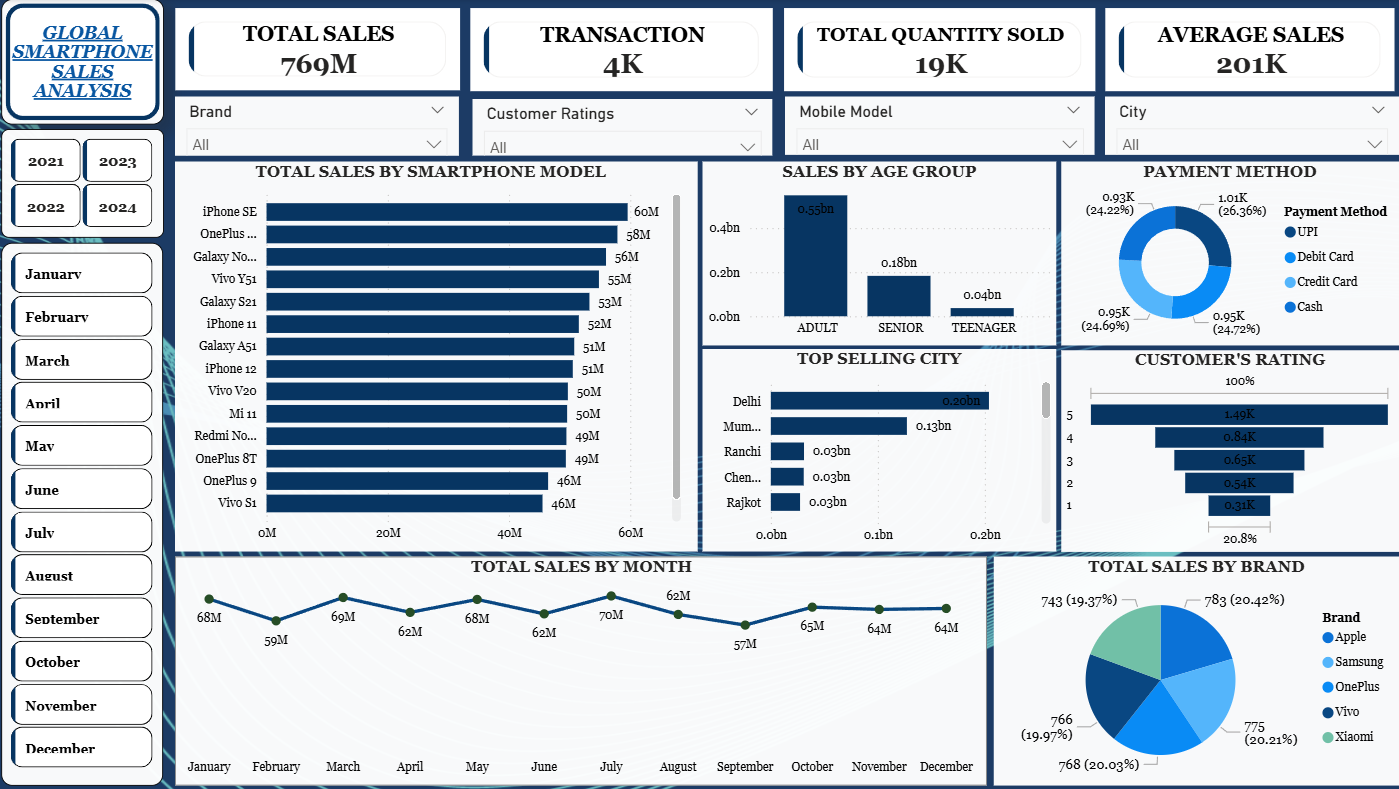

Layout of this report page (visuals, bound fields, positions):
{"tool":"powerbi","page":{"name":"Page 1","canvas":[1280,720],"ordinal":0},"visuals":[{"type":"shape","box":[5.6,0,147.5,113.8],"z":0},{"type":"advancedSlicerVisual","fields":{"Values":["Sheet1.DATE.Variation.Date Hierarchy.Month"]},"box":[5.8,220.8,146.7,490.8],"z":1000},{"type":"cardVisual","fields":{"Data":["Sum(Sheet1.SALES)"]},"box":[157.9,3.7,267.4,84.7],"z":2000},{"type":"cardVisual","fields":{"Data":["Avg(Sheet1.SALES)"]},"box":[1000,3.8,271.2,85],"z":3000},{"type":"cardVisual","fields":{"Data":["CountNonNull(Sheet1.SALES)"]},"box":[425.6,3.3,283.3,85.6],"z":4000},{"type":"cardVisual","fields":{"Data":["Sum(Sheet1.Units Sold)"]},"box":[708.8,3.1,291.2,85.6],"z":5000},{"type":"lineChart","title":"TOTAL SALES BY MONTH","fields":{"Category":["Sheet1.DATE.Variation.Date Hierarchy.Month","Sheet1.DATE.Variation.Date Hierarchy.Day"],"Y":["Sum(Sheet1.SALES)"]},"box":[162.9,504.3,734.3,207.1],"z":6000},{"type":"pieChart","title":"TOTAL SALES BY BRAND","fields":{"Category":["Sheet1.Brand"],"Y":["CountNonNull(Sheet1.SALES)"]},"box":[902.9,504.3,367.1,207.1],"z":7000},{"type":"funnel","title":"CUSTOMER''S RATING","fields":{"Category":["Sheet1.Customer Ratings"],"Y":["CountNonNull(Sheet1.Customer Ratings)"]},"box":[964.4,317.5,305.6,182.5],"z":8000},{"type":"clusteredBarChart","title":"TOP SELLING CITY","fields":{"Category":["Sheet1.City"],"Y":["Sum(Sheet1.SALES)"]},"box":[640,316.9,320,183.1],"z":9000},{"type":"donutChart","title":" PAYMENT METHOD","fields":{"Category":["Sheet1.Payment Method"],"Y":["CountNonNull(Sheet1.Payment Method)"]},"box":[964.6,146.9,305.4,166.2],"z":10000},{"type":"clusteredColumnChart","title":"SALES BY AGE GROUP","fields":{"Category":["Sheet1.AGE GROUP"],"Y":["Sum(Sheet1.SALES)"]},"box":[640,147.1,320,166.2],"z":11000},{"type":"clusteredBarChart","title":"TOTAL SALES BY SMARTPHONE  MODEL","fields":{"Category":["Sheet1.Mobile Model"],"Y":["Sum(Sheet1.SALES)"]},"box":[162.9,147.1,472.9,352.9],"z":12000},{"type":"advancedSlicerVisual","fields":{"Values":["Sheet1.DATE.Variation.Date Hierarchy.Year"]},"box":[5.7,117.1,147.1,98.6],"z":13000},{"type":"slicer","fields":{"Values":["Sheet1.Brand"]},"box":[163.3,88.3,256.7,53.3],"z":14000},{"type":"slicer","fields":{"Values":["Sheet1.Mobile Model"]},"box":[714.3,88.6,280,52.9],"z":15000},{"type":"slicer","fields":{"Values":["Sheet1.City"]},"box":[1003.8,88.8,266.2,52.5],"z":16000},{"type":"slicer","fields":{"Values":["Sheet1.Customer Ratings"]},"box":[431.4,90,271.4,51.4],"z":17000}]}

Visuals, with their boxes in screenshot pixels (x1, y1, x2, y2), scaled from the page's 1280x720 canvas onto the 1399x789 screenshot:
shape: [6, 0, 167, 125]
advancedSlicerVisual - Sheet1.DATE.Variation.Date Hierarchy.Month: [6, 242, 167, 780]
cardVisual - Sum(Sheet1.SALES): [173, 4, 465, 97]
cardVisual - Avg(Sheet1.SALES): [1093, 4, 1389, 97]
cardVisual - CountNonNull(Sheet1.SALES): [465, 4, 775, 97]
cardVisual - Sum(Sheet1.Units Sold): [775, 3, 1093, 97]
"TOTAL SALES BY MONTH" lineChart: [178, 553, 981, 780]
"TOTAL SALES BY BRAND" pieChart: [987, 553, 1388, 780]
"CUSTOMER''S RATING" funnel: [1054, 348, 1388, 548]
"TOP SELLING CITY" clusteredBarChart: [700, 347, 1049, 548]
" PAYMENT METHOD" donutChart: [1054, 161, 1388, 343]
"SALES BY AGE GROUP" clusteredColumnChart: [700, 161, 1049, 343]
"TOTAL SALES BY SMARTPHONE  MODEL" clusteredBarChart: [178, 161, 695, 548]
advancedSlicerVisual - Sheet1.DATE.Variation.Date Hierarchy.Year: [6, 128, 167, 236]
slicer - Sheet1.Brand: [178, 97, 459, 155]
slicer - Sheet1.Mobile Model: [781, 97, 1087, 155]
slicer - Sheet1.City: [1097, 97, 1388, 155]
slicer - Sheet1.Customer Ratings: [472, 99, 768, 155]
